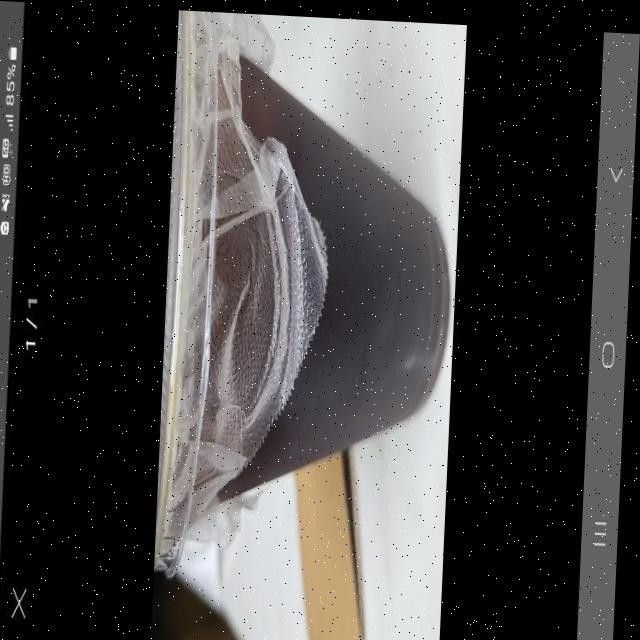cup: (158, 7, 463, 589)
